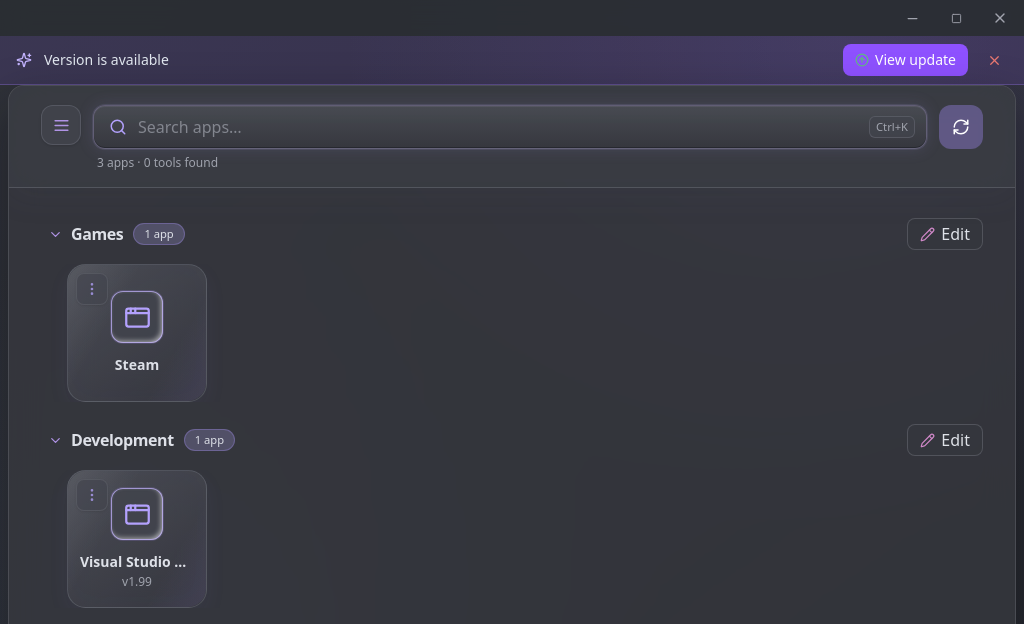
Test: App › moves an application from its grip menu without launching it
Click the button named "Manage Visual Studio Code": (92, 495) [76, 479, 108, 511]
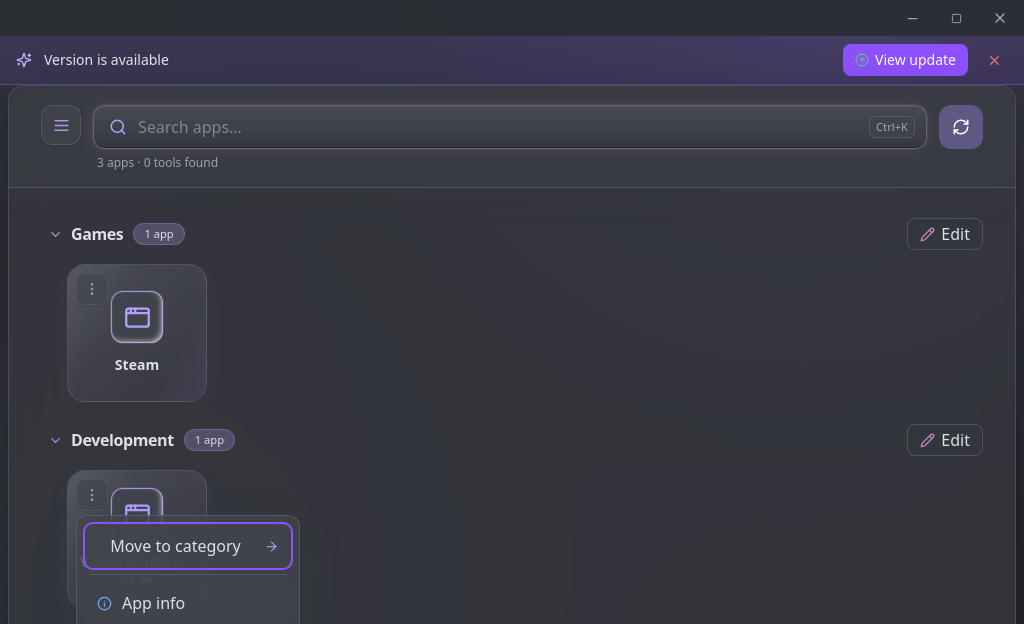
Click the menu item "Move to category": (188, 546) [85, 524, 291, 568]
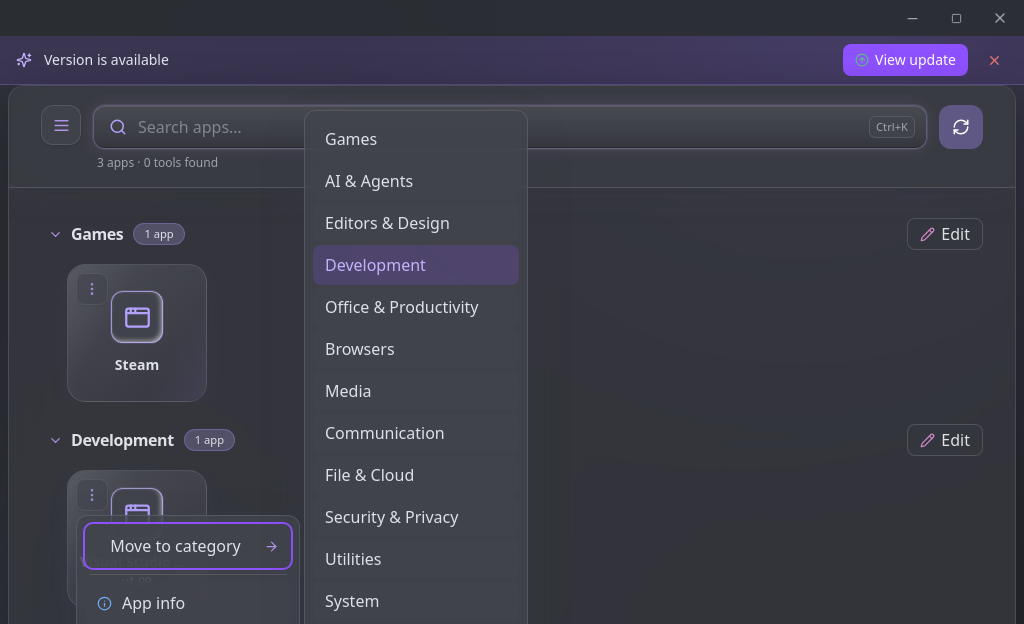
Click the menu item "AI & Agents": (416, 181) [313, 161, 519, 201]
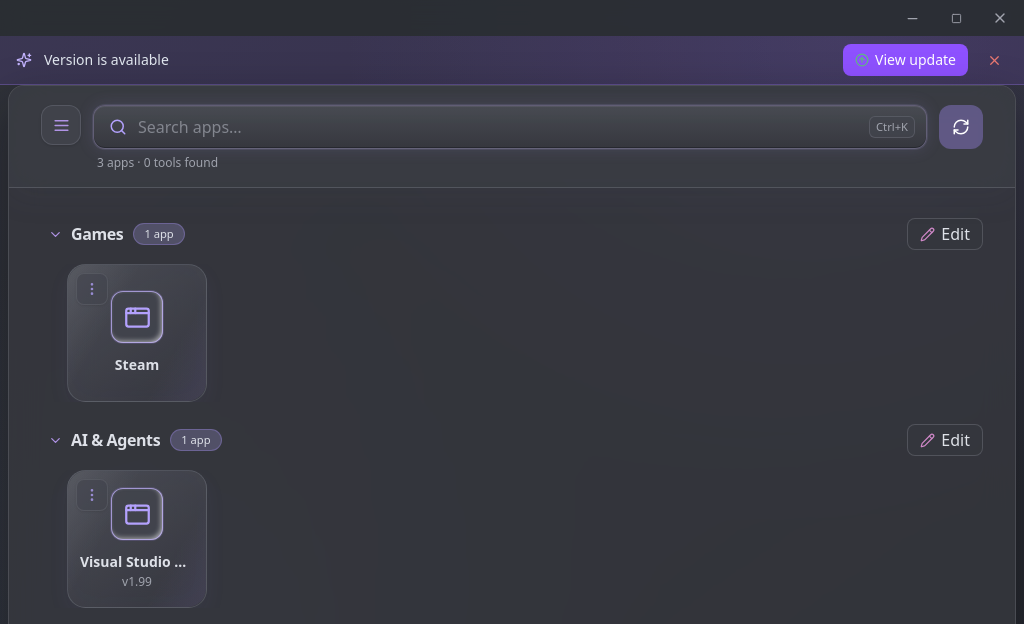
Click the button named "Open navigation": (61, 125) [41, 105, 81, 145]
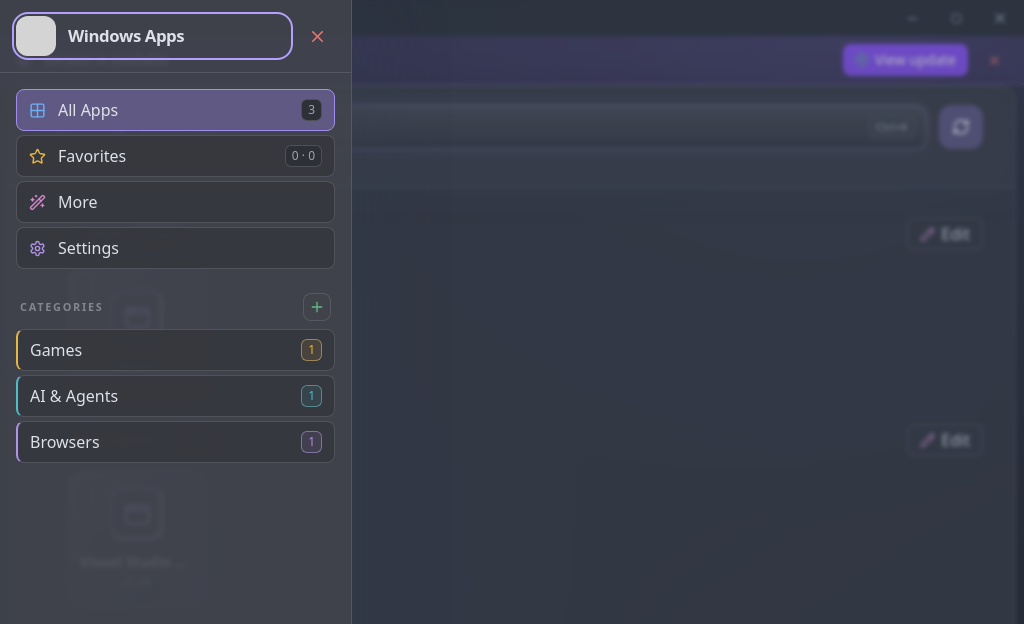
expect the button "AI & Agents 1" is shown: met, box [16, 375, 335, 417]
